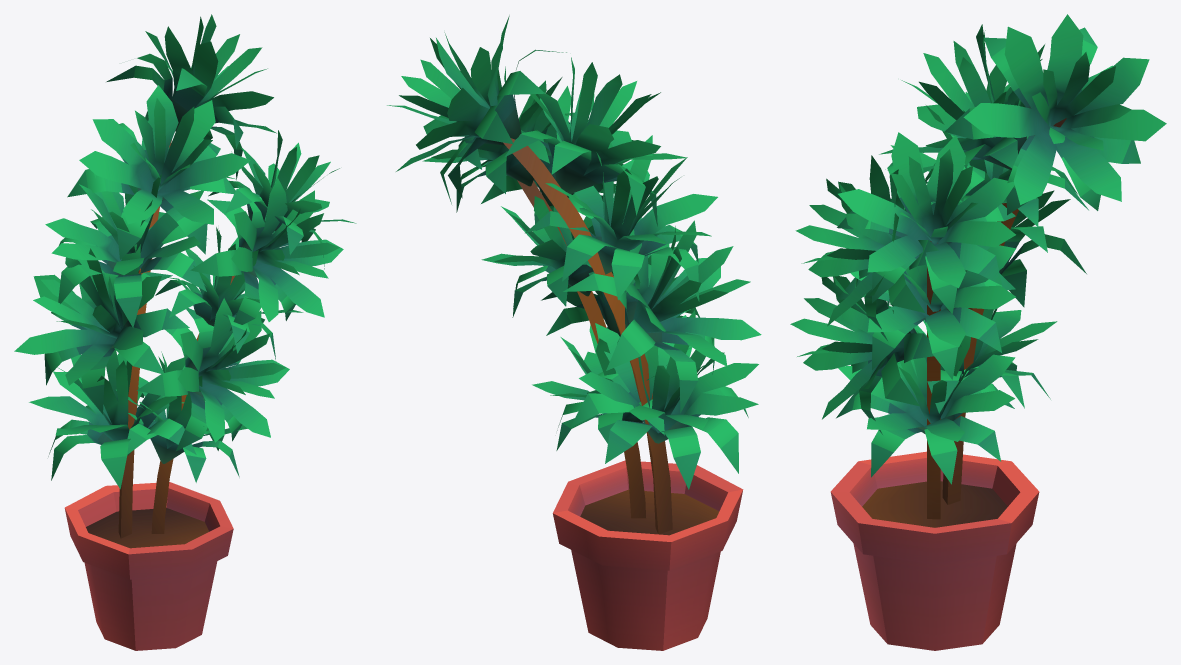
File: Plant3.fbx
3 renders of one model, left to right at view 1: azimuth 30°, elevation 25°; view 2: azimuth 150°, elevation 25°; view 3: azimuth 270°, elevation 25°, orthographic. The views are drawn at different scales.
Visible parts, largest first — view 1: Box010; view 2: Box010; view 3: Box010.
Part boxes in pixels (x1,y1,x2,y2): Box010: (14, 14, 356, 650); Box010: (387, 15, 761, 650); Box010: (790, 14, 1166, 650).
Size of the model in its own units: 53.33 by 94.46 by 49.29.
